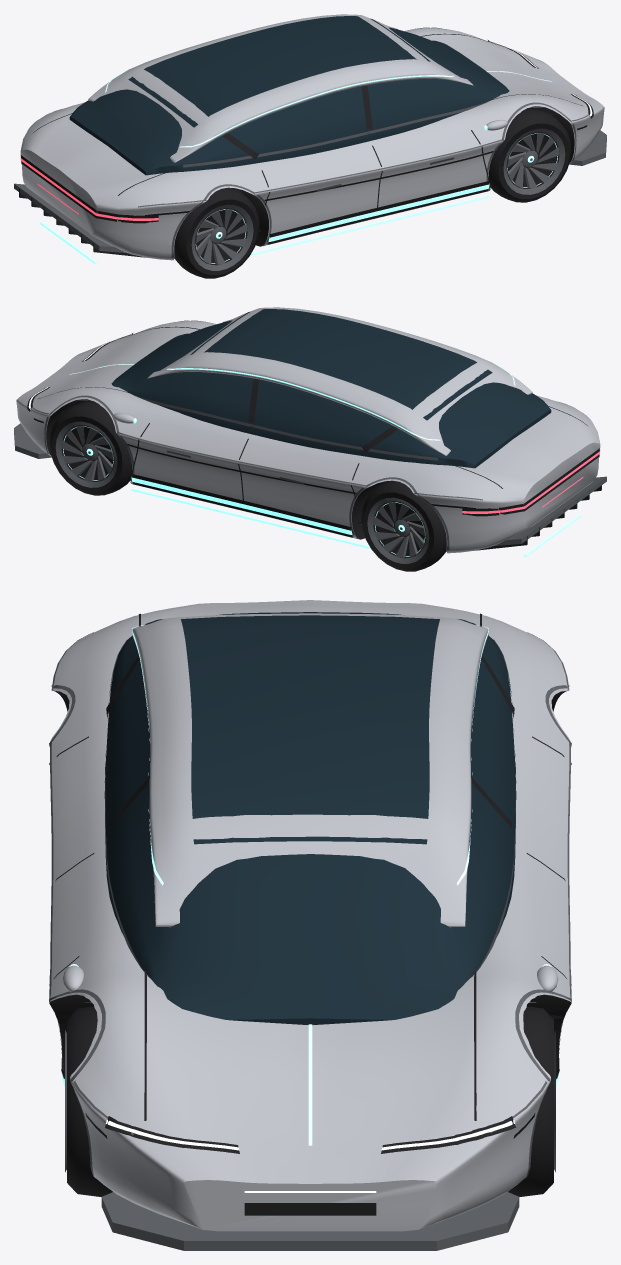
File: car180-sedan.glb
3 views of the same model, one above another, from view 1: azimuth 30°, elevation 25°; view 2: azimuth 150°, elevation 25°; view 3: azimuth 270°, elevation 25° (orthographic). The views are drawn at different scales.
Parts seen in each view (by area): view 1: f162-body, f162-glass, f162-tire, f162-trim, f162-wheel-fr-tire, f162-wheel-rr-tire, f162-accent, f162-wheel-rr-trim, f162-wheel-fr-trim, f162-tail; view 2: f162-body, f162-glass, f162-tire, f162-trim, f162-wheel-fl-tire, f162-wheel-rl-tire, f162-accent, f162-wheel-rl-trim, f162-wheel-fl-trim, f162-tail; view 3: f162-body, f162-glass, f162-trim, f162-tire, f162-wheel-fl-tire, f162-wheel-fr-tire, f162-head, f162-accent.
Boxes of the visible parts, left/top/right/bottom form: f162-body: left=20, top=14, right=604, bottom=260; f162-glass: left=69, top=16, right=509, bottom=175; f162-tire: left=19, top=33, right=593, bottom=257; f162-trim: left=14, top=27, right=606, bottom=260; f162-wheel-fr-tire: left=488, top=107, right=571, bottom=202; f162-wheel-rr-tire: left=174, top=187, right=259, bottom=278; f162-accent: left=40, top=71, right=551, bottom=264; f162-wheel-rr-trim: left=191, top=204, right=253, bottom=270; f162-wheel-fr-trim: left=503, top=128, right=565, bottom=194; f162-tail: left=20, top=157, right=158, bottom=220; f162-body: left=16, top=307, right=600, bottom=553; f162-glass: left=111, top=309, right=551, bottom=468; f162-tire: left=27, top=326, right=601, bottom=550; f162-trim: left=14, top=320, right=606, bottom=553; f162-wheel-fl-tire: left=49, top=400, right=132, bottom=495; f162-wheel-rl-tire: left=361, top=480, right=446, bottom=571; f162-accent: left=69, top=364, right=580, bottom=557; f162-wheel-rl-trim: left=367, top=497, right=429, bottom=563; f162-wheel-fl-trim: left=55, top=421, right=117, bottom=487; f162-tail: left=462, top=450, right=600, bottom=513; f162-body: left=49, top=600, right=571, bottom=1231; f162-glass: left=104, top=612, right=516, bottom=1025; f162-trim: left=49, top=632, right=571, bottom=1250; f162-tire: left=49, top=613, right=571, bottom=1215; f162-wheel-fl-tire: left=508, top=1006, right=553, bottom=1196; f162-wheel-fr-tire: left=67, top=1006, right=112, bottom=1196; f162-head: left=105, top=1120, right=515, bottom=1192; f162-accent: left=62, top=625, right=558, bottom=1145.
Size of the model in its own units: 4.36 by 1.24 by 1.9.
